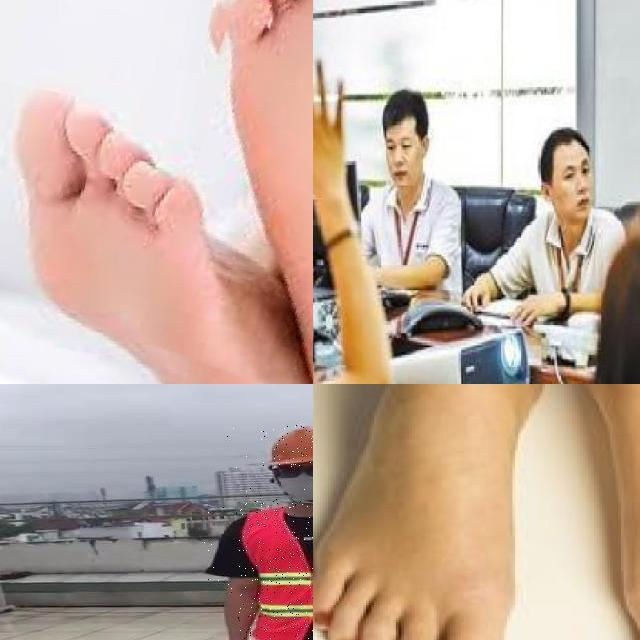Barefoots: (0, 79, 304, 384), (313, 384, 640, 640), (201, 0, 313, 340)
face_nomask: (552, 158, 591, 216), (390, 129, 416, 184)
hand_noglove: (313, 54, 344, 188), (510, 286, 552, 328), (460, 274, 488, 316)
head_helmet: (261, 425, 313, 469)
head_nohelmet: (534, 122, 598, 160), (374, 89, 432, 127)
person: (481, 118, 634, 322), (204, 425, 313, 640), (366, 82, 466, 306)
vest: (238, 501, 313, 640)
